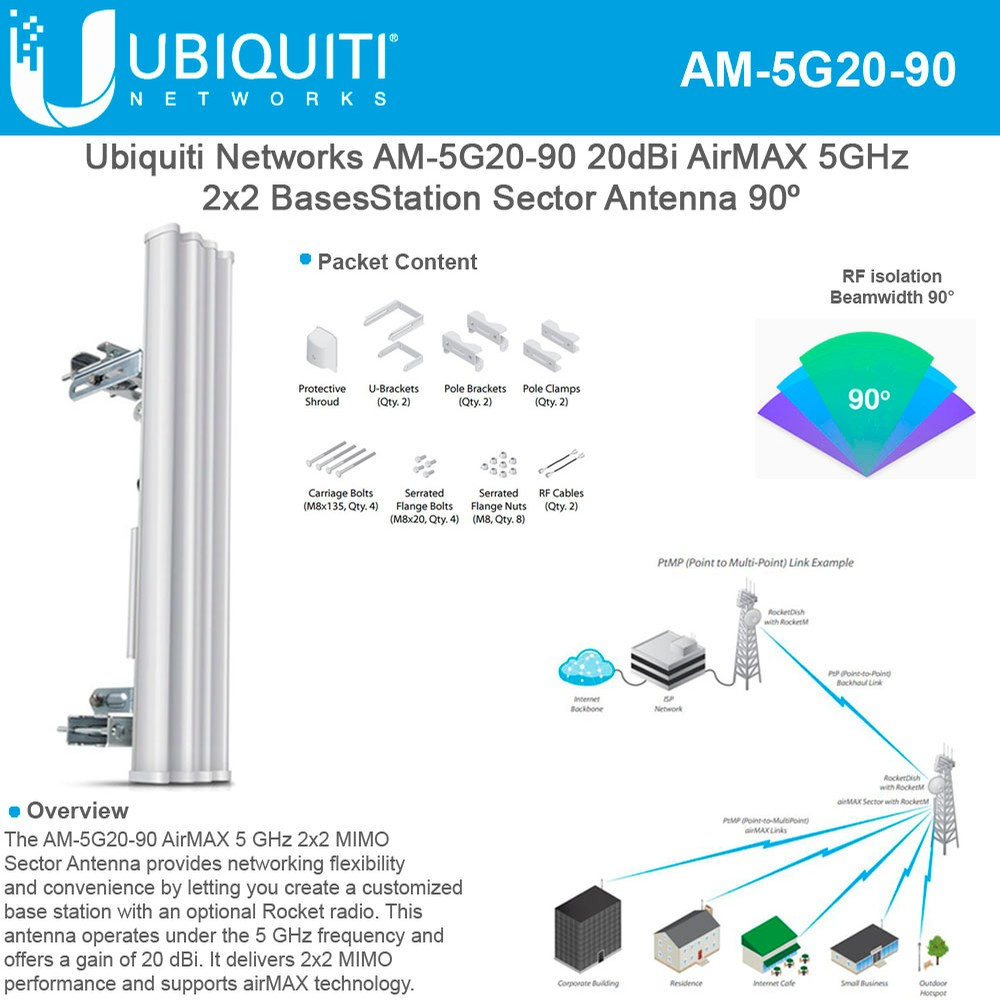sa: (86, 231, 250, 803)
